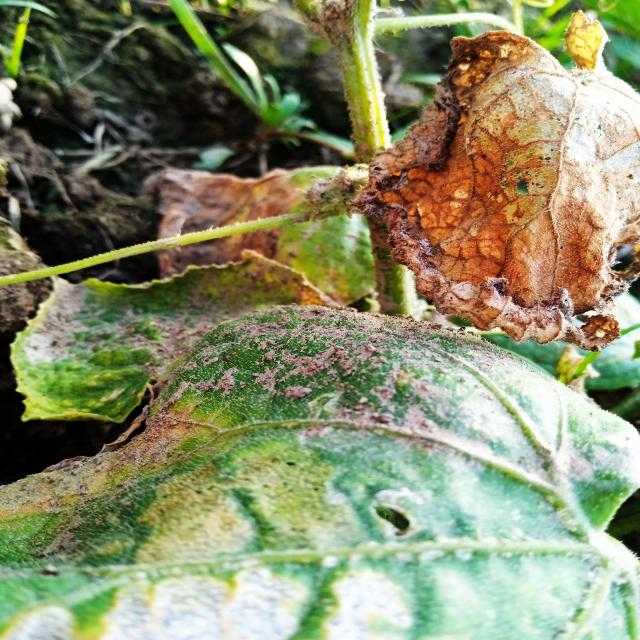Bacterial-Wilt: (346, 6, 640, 354)
